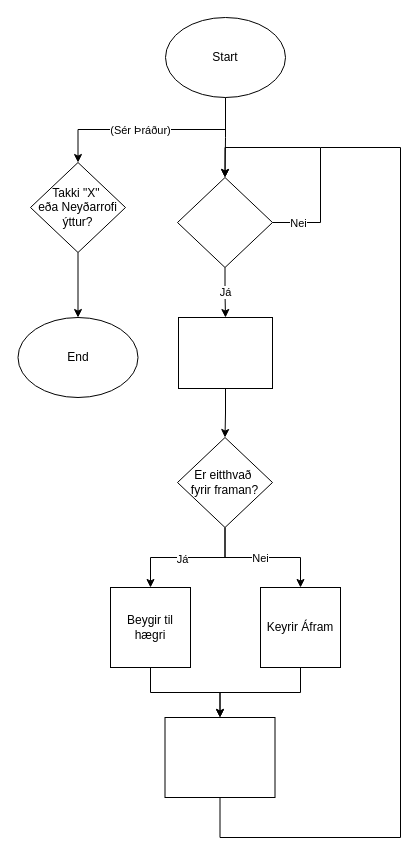
Some shapes in this 419 by 856 pixel diagram are drawn without their labels. The shapes that lost their labels are listed below. From the top down, each one's centre as x and y in pixels, then its label:
point 224,222: Eru ljósin kveikt?
point 225,352: Uppfærir ljósaupplýsingar
point 219,757: Uppfæri hraða og heildarvegalengd
